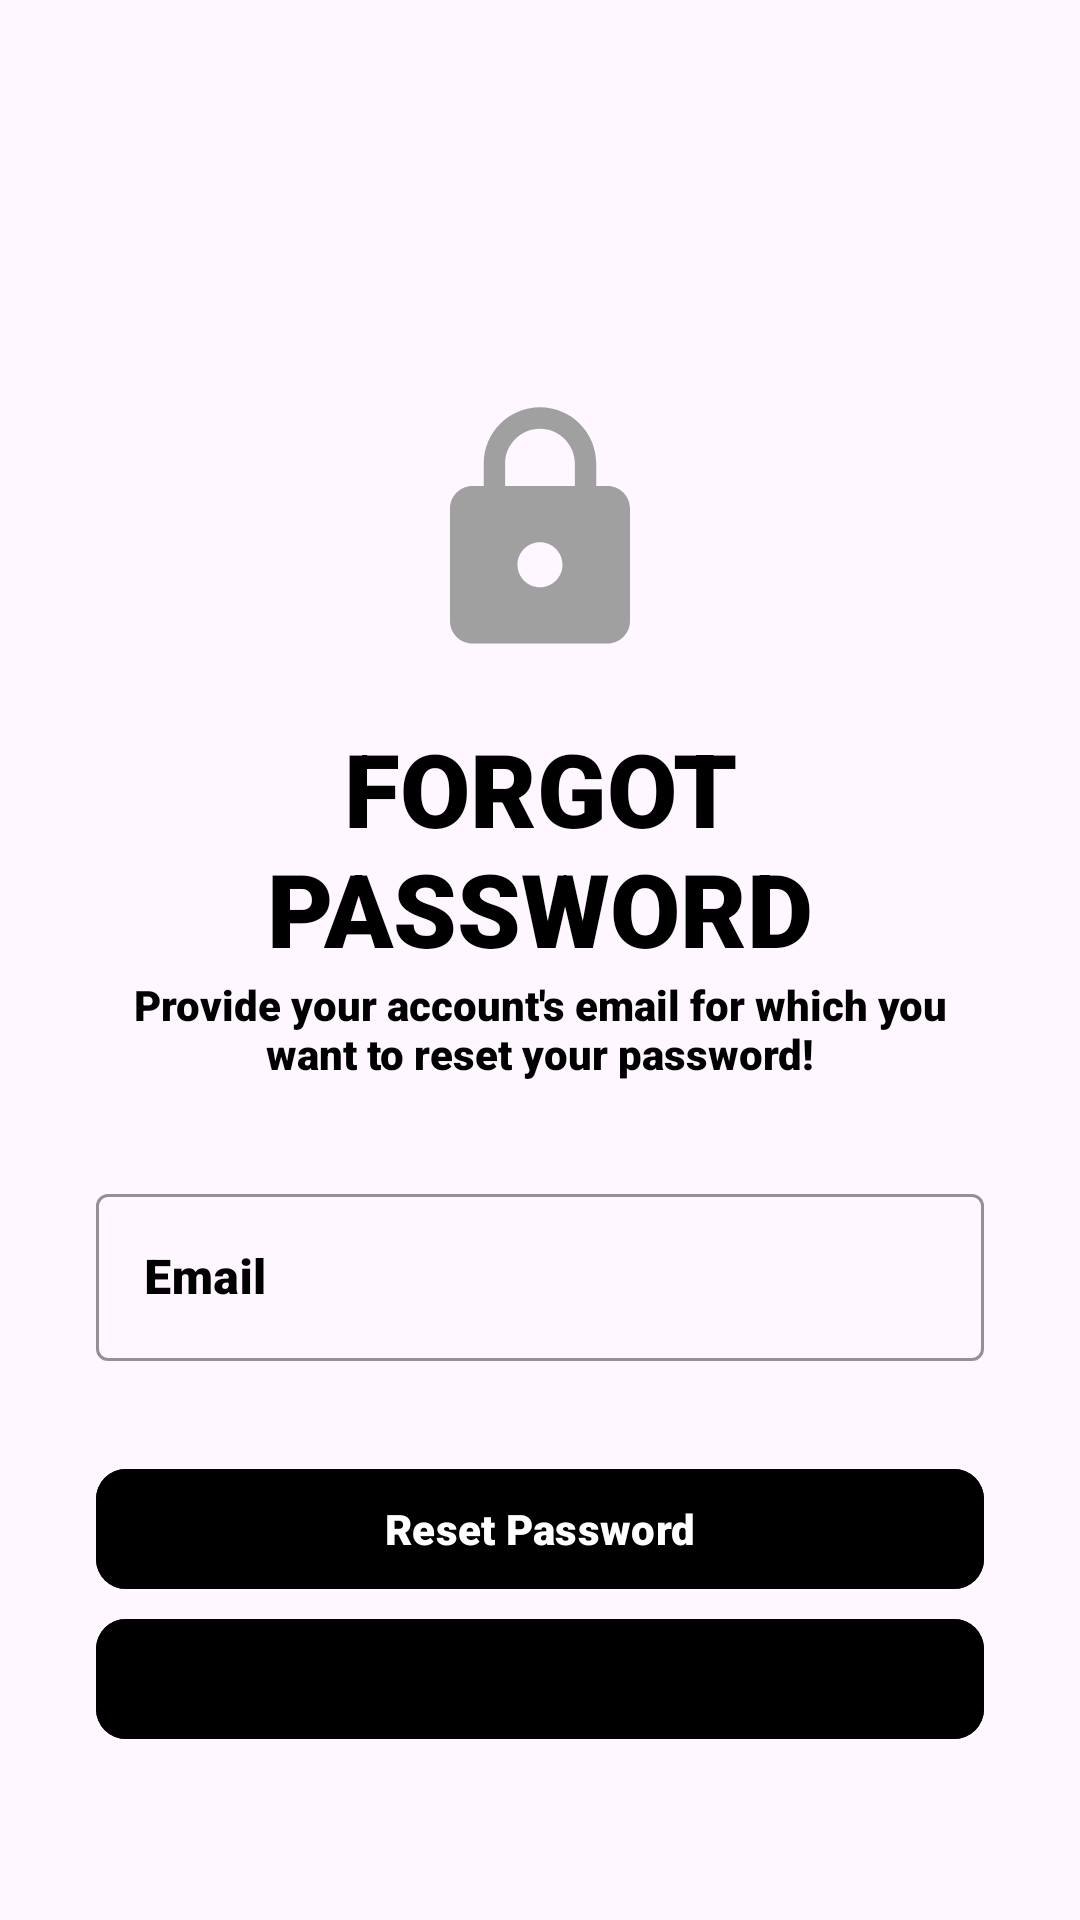

Named icons in this screenshot (1080 × 1920) and their centers, point (x, y):
lock: point (540, 525)
